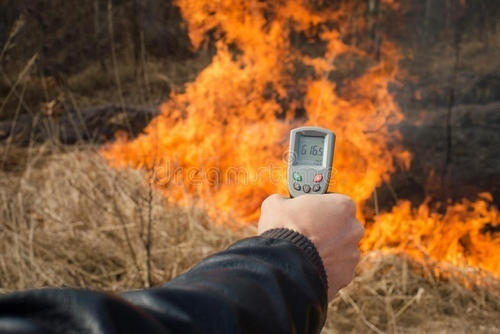fire: (98, 9, 473, 286)
